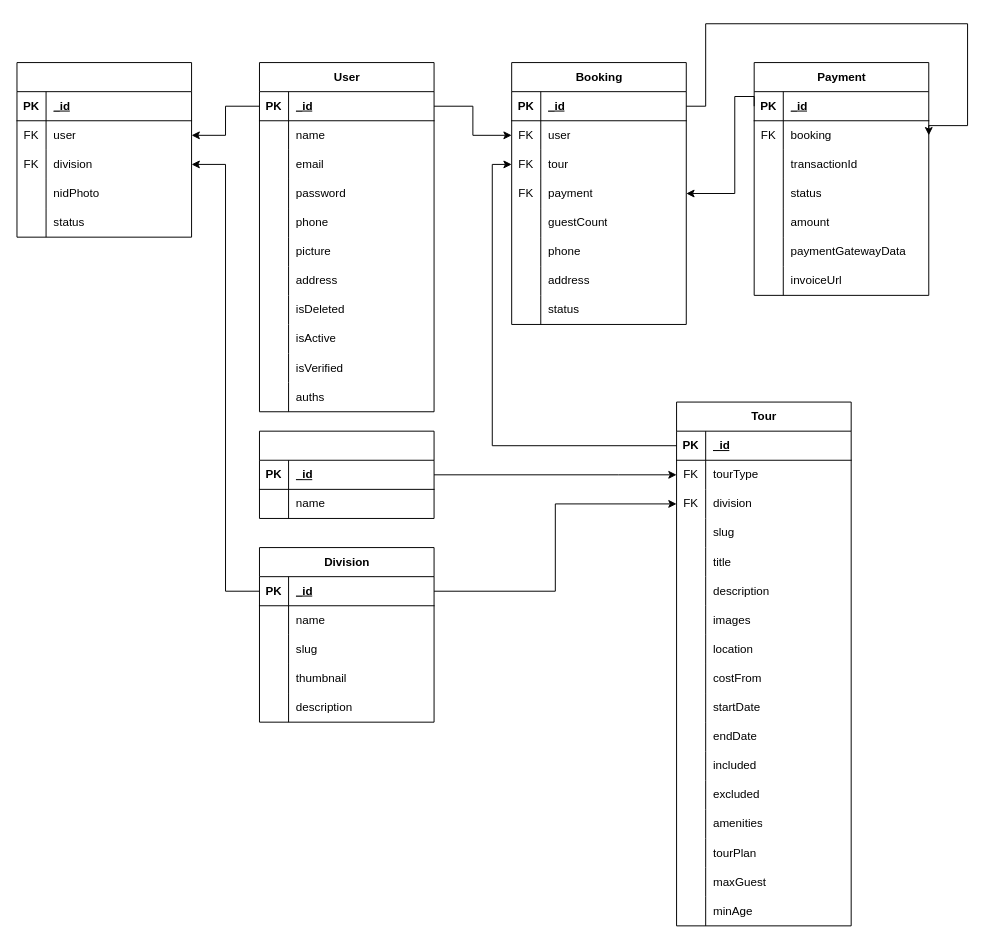
Image size: 992x943. Some labels were removed from this diagram. Each missing label, with the box of its shape:
Guide: (16, 62, 192, 237)
Tour Type: (259, 430, 434, 518)
